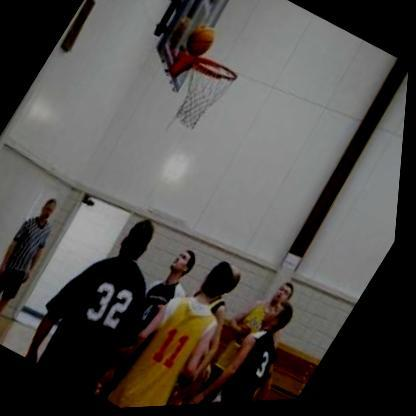basketball: (175, 16, 225, 68)
